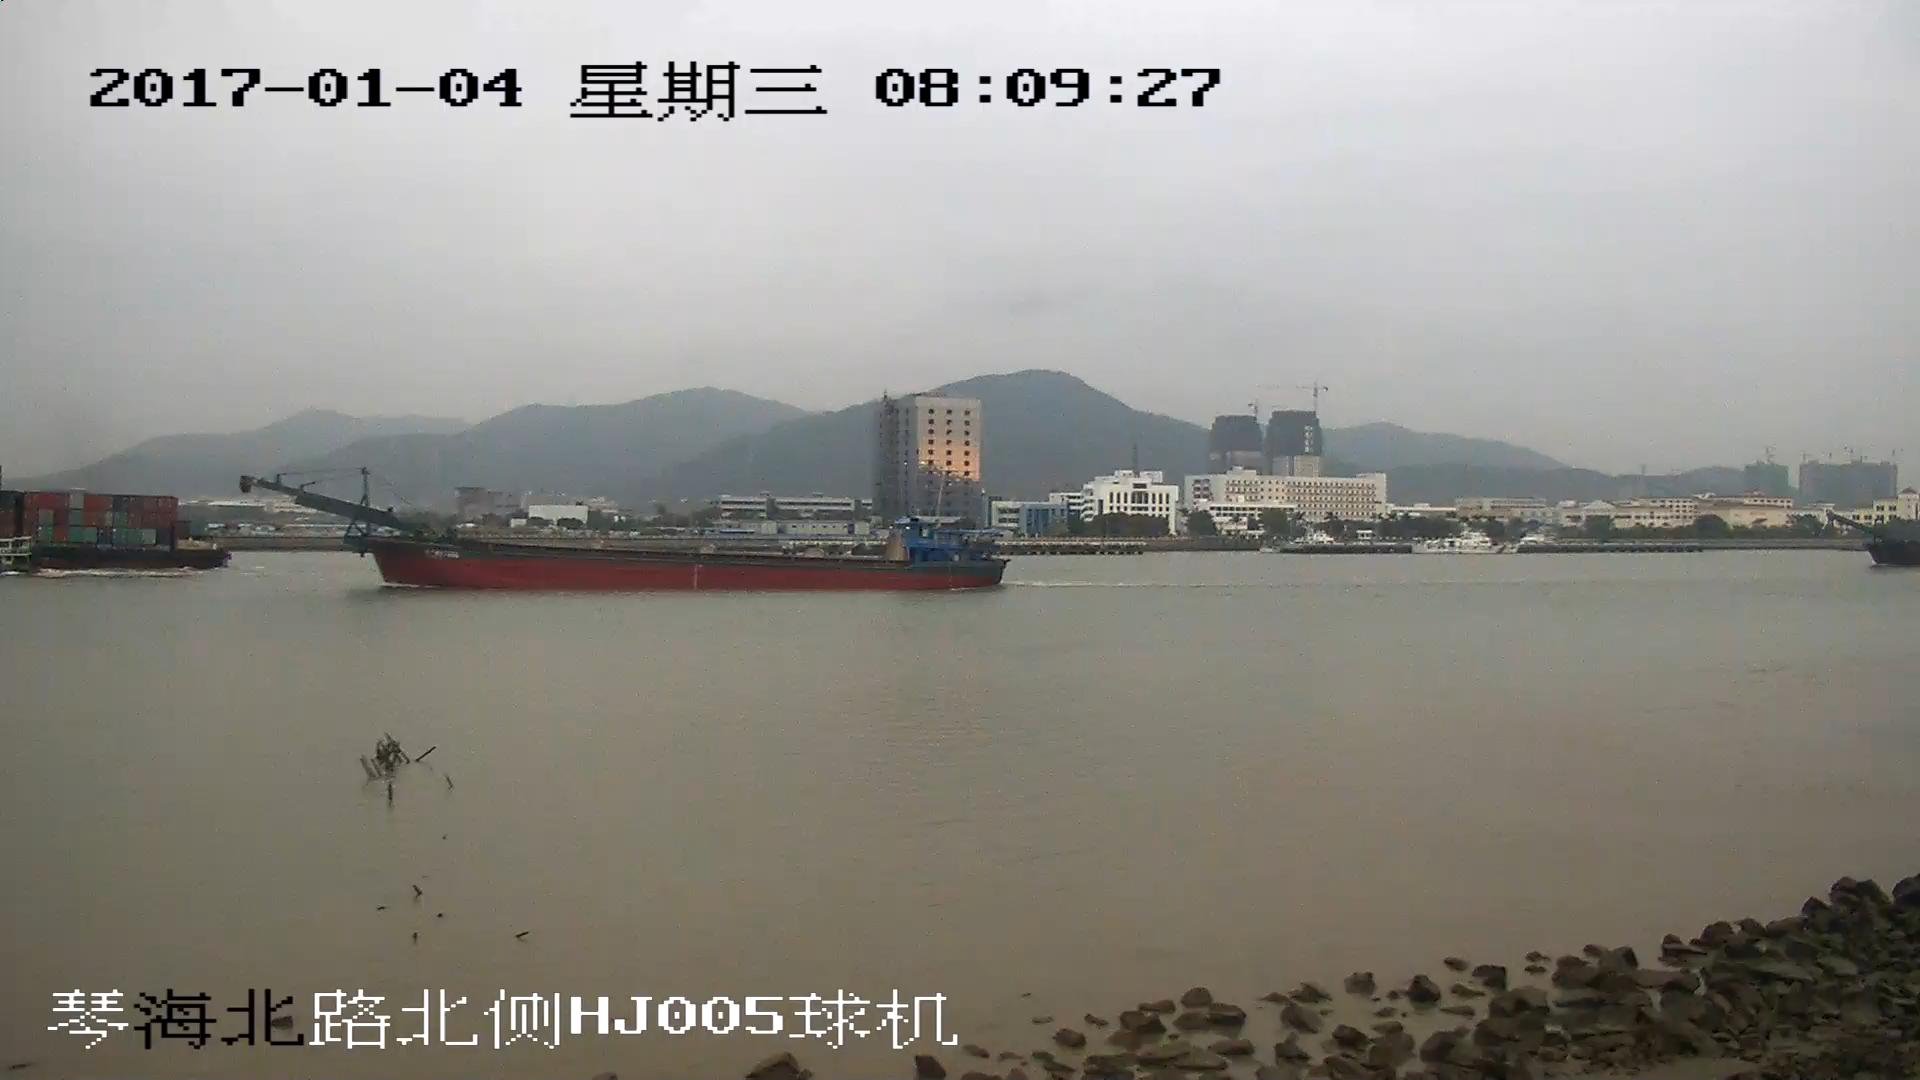bulk cargo carrier: (244, 477, 1003, 589)
container ship: (1, 492, 226, 570)
